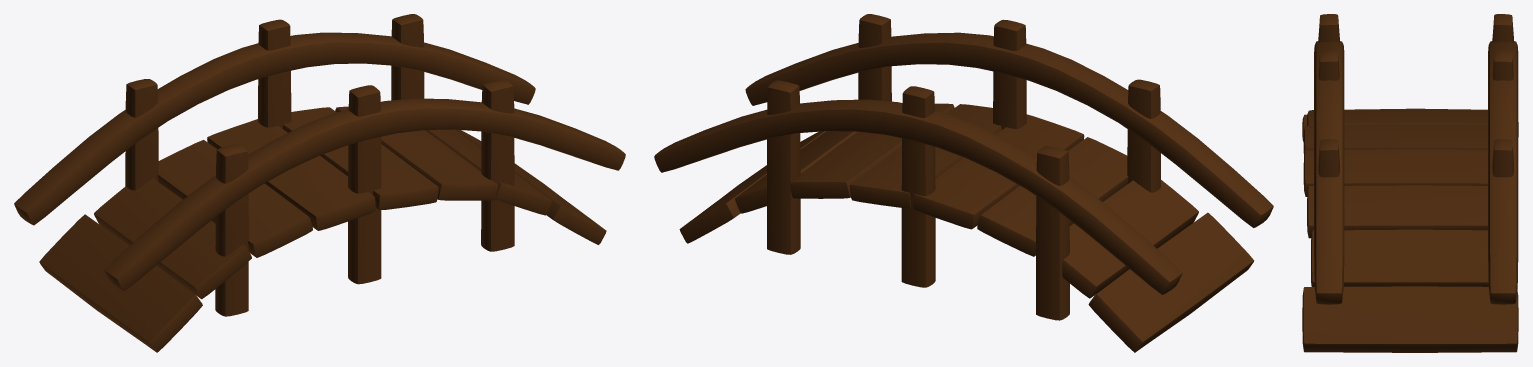
The model's file is Bridge_Small.obj.
The picture shows the model from 3 angles, left to right: view 1: azimuth 30°, elevation 25°; view 2: azimuth 150°, elevation 25°; view 3: azimuth 270°, elevation 25°; orthographic projection. The views are drawn at different scales.
Visible parts, largest first — view 1: Bridge_Small_Cube.273; view 2: Bridge_Small_Cube.273; view 3: Bridge_Small_Cube.273.
Boxes of the visible parts, x1,y1,x2,y2 form: Bridge_Small_Cube.273: [14, 14, 625, 352]; Bridge_Small_Cube.273: [654, 14, 1273, 352]; Bridge_Small_Cube.273: [1302, 14, 1518, 352].
Size of the model in its own units: 6.94 by 2.62 by 2.64.
